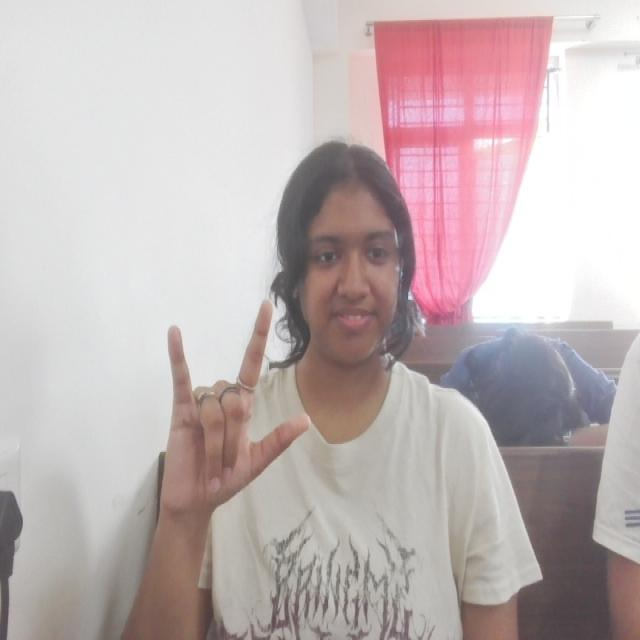iloveyou: (160, 300, 312, 517)
